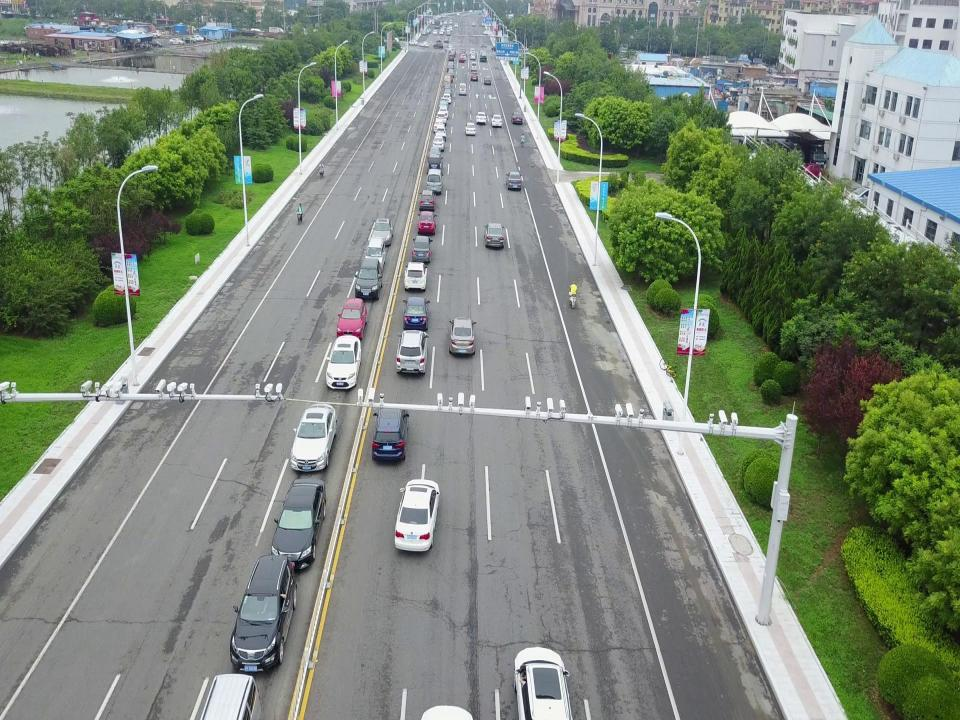car: (230, 553, 298, 672), (270, 478, 326, 572), (514, 645, 574, 720), (394, 477, 440, 553), (290, 402, 338, 473), (370, 400, 410, 462), (325, 335, 361, 389), (396, 328, 430, 377), (336, 297, 368, 341), (354, 257, 382, 300), (448, 317, 477, 357), (402, 296, 430, 331), (404, 262, 428, 292), (371, 217, 393, 247), (483, 222, 505, 249), (412, 235, 432, 263), (417, 210, 437, 234), (419, 188, 437, 210), (506, 171, 522, 190), (432, 135, 445, 151), (428, 146, 442, 159), (475, 111, 487, 125), (511, 110, 523, 124), (435, 126, 447, 140), (464, 123, 476, 136), (433, 119, 445, 132), (435, 112, 447, 124), (491, 114, 502, 127), (147, 29, 161, 38), (438, 106, 448, 118), (169, 38, 185, 45), (182, 36, 196, 44), (187, 35, 201, 42), (151, 40, 163, 48), (438, 100, 448, 109), (442, 94, 451, 104), (444, 88, 452, 99), (192, 34, 204, 41), (470, 72, 478, 82), (440, 97, 448, 106), (444, 84, 452, 93), (484, 76, 492, 85), (446, 64, 454, 72), (448, 69, 454, 78), (458, 55, 464, 63), (470, 53, 476, 60), (460, 54, 466, 61), (448, 54, 454, 61), (481, 51, 487, 57), (450, 51, 456, 57)
van: (197, 672, 262, 720), (364, 237, 386, 271), (426, 168, 444, 195), (427, 153, 443, 174), (458, 83, 466, 96), (443, 75, 451, 87), (471, 62, 477, 72)
